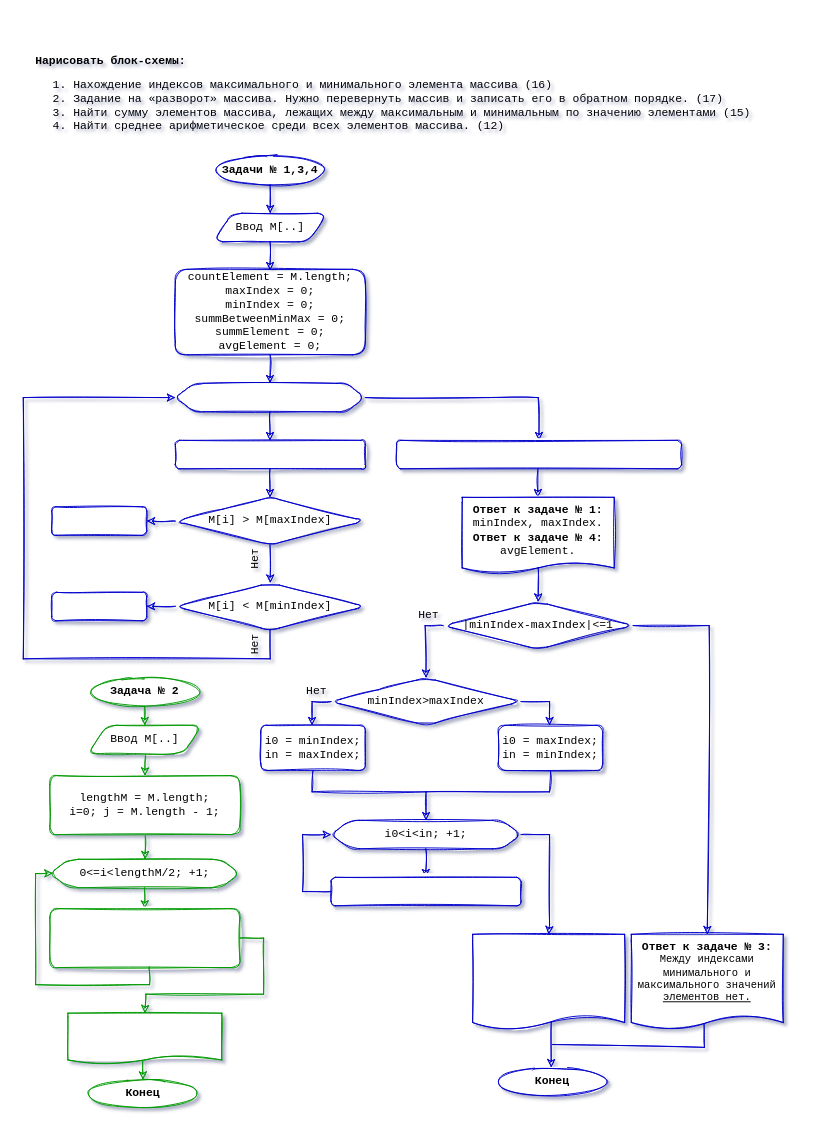
This 818x1131 diagram has some shape labels left out. The shapes that lost their labels are listed below. From the top down, each one's box as (x1, y1, x2, y2) in pixels, then its label:
(174, 382, 365, 412): 0<=i<countElement; +1;
(174, 439, 365, 469): sumElement += M[i];
(396, 439, 682, 469): avgElement = summElement/countElement;
(51, 506, 147, 535): maxIndex = i;
(51, 591, 147, 621): minIndex = i;
(330, 876, 521, 906): summBetweenMinMax += M[i];
(49, 908, 240, 968): temp = M[i]; M[i] = M[j-i]; M[j-i] = temp;
(472, 933, 625, 1029): Ответ к задаче № 3: summBetweenMinMax.
(67, 1012, 222, 1064): Ответ к задаче № 2: M[..];
